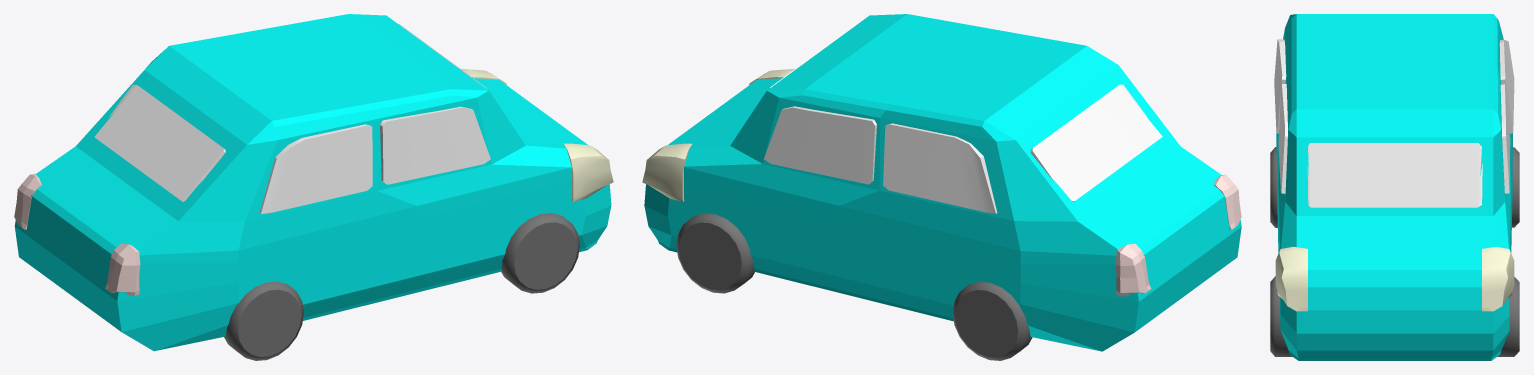
File: CarroAzul.fbx
3 views of the same model, side by side, from view 1: azimuth 30°, elevation 25°; view 2: azimuth 150°, elevation 25°; view 3: azimuth 270°, elevation 25° (orthographic). The views are drawn at different scales.
Visible parts, largest first — view 1: pCube1, pCube10, pCube7, pCube8, pCylinder1, pCylinder2, pCube11, pCube9; view 2: pCube1, pCube10, pCube4, pCube3, pCylinder3, pCylinder4, pCube11, pCube9; view 3: pCube1, pCube6, pCube9, pCube4, pCylinder1, pCylinder3, pCube8, pCube3, pCube7, pCylinder4, pCylinder2.
Boxes of the visible parts, x1,y1,x2,y2 form: pCube1: [14, 14, 611, 351]; pCube10: [94, 84, 225, 201]; pCube7: [259, 124, 372, 213]; pCube8: [380, 106, 490, 184]; pCylinder1: [501, 213, 579, 293]; pCylinder2: [224, 281, 303, 360]; pCube11: [14, 173, 140, 295]; pCube9: [461, 69, 613, 201]; pCube1: [644, 14, 1241, 351]; pCube10: [1030, 84, 1162, 201]; pCube4: [883, 123, 997, 213]; pCube3: [764, 106, 876, 184]; pCylinder3: [676, 213, 754, 293]; pCylinder4: [952, 282, 1032, 360]; pCube11: [1116, 174, 1241, 296]; pCube9: [642, 68, 794, 201]; pCube1: [1276, 14, 1512, 360]; pCube6: [1307, 143, 1482, 207]; pCube9: [1275, 246, 1514, 311]; pCube4: [1499, 39, 1514, 133]; pCylinder1: [1270, 276, 1292, 356]; pCylinder3: [1497, 277, 1519, 356]; pCube8: [1278, 84, 1287, 193]; pCube3: [1500, 84, 1510, 193]; pCube7: [1274, 39, 1286, 133]; pCylinder4: [1512, 147, 1519, 227]; pCylinder2: [1270, 147, 1277, 227].
Size of the model in its own units: 24.41 by 10.7 by 11.09.
